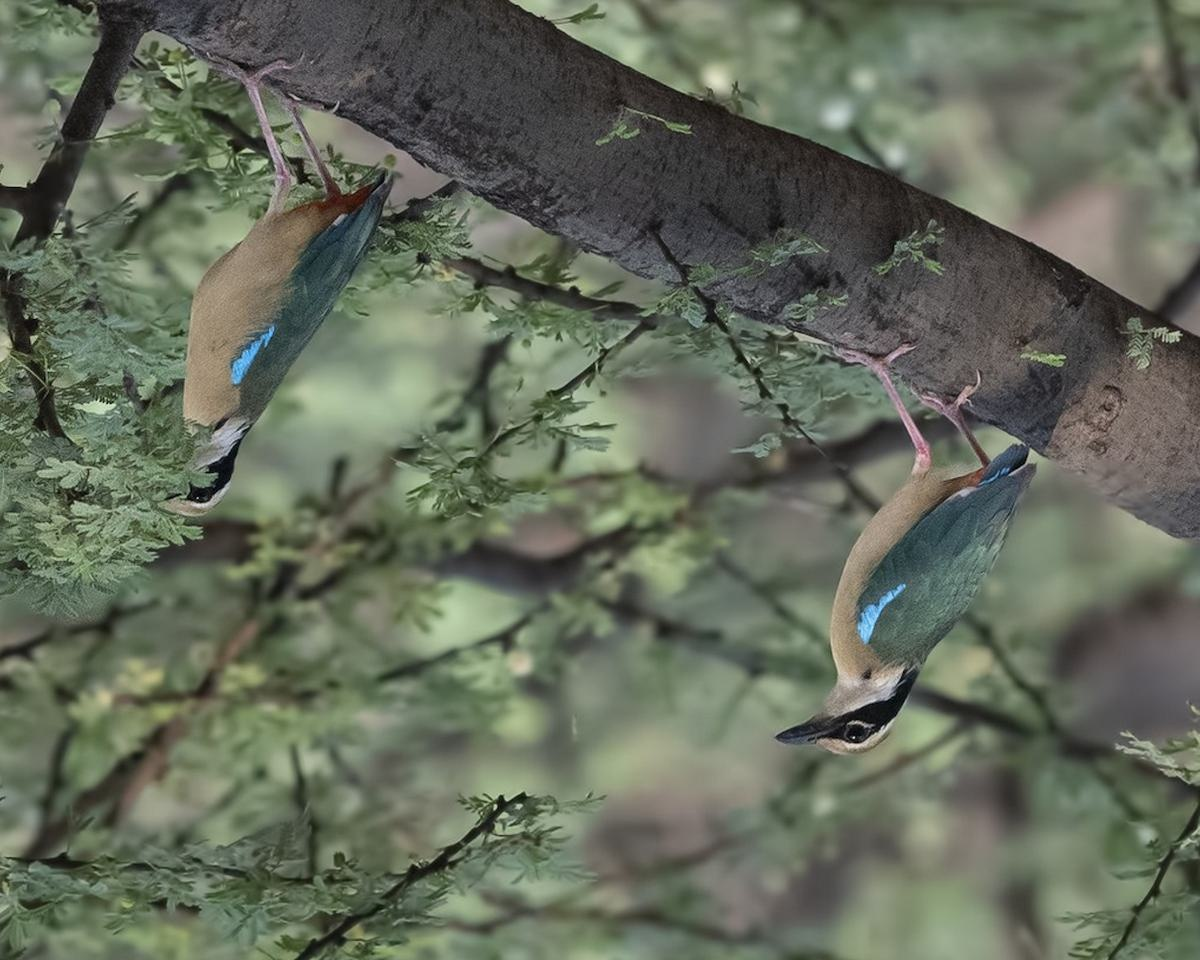pitta: (729, 315, 1046, 806), (132, 74, 402, 553)
